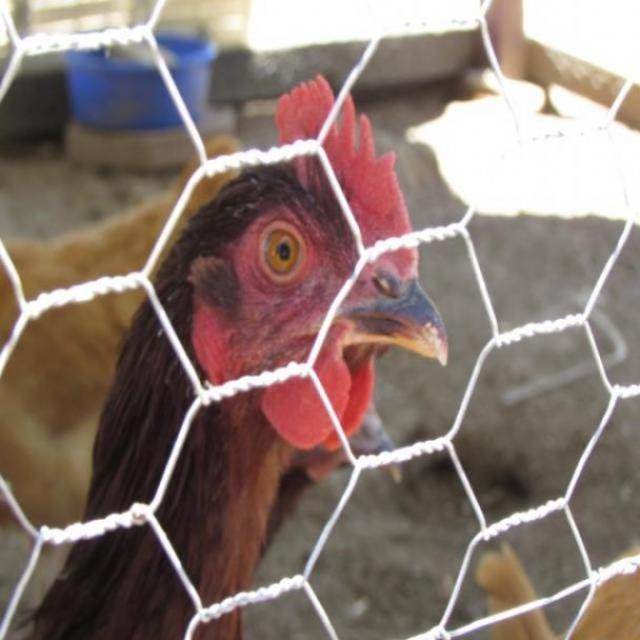Chicken: (43, 108, 458, 611)
